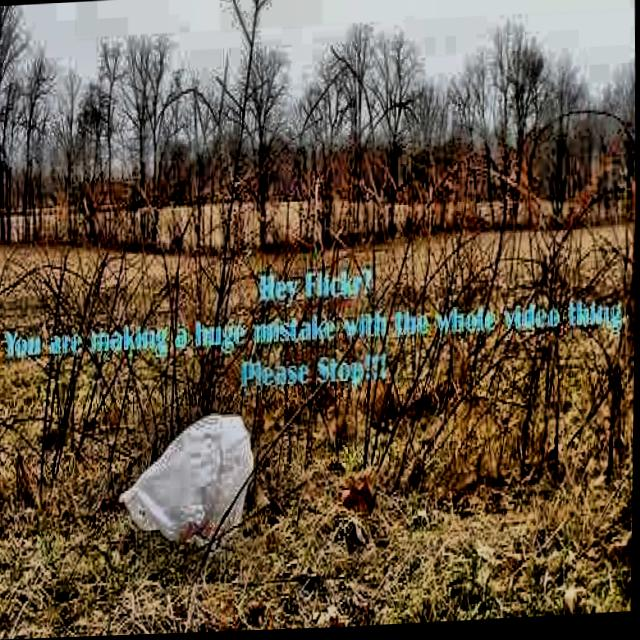Plastic: (121, 413, 263, 571)
